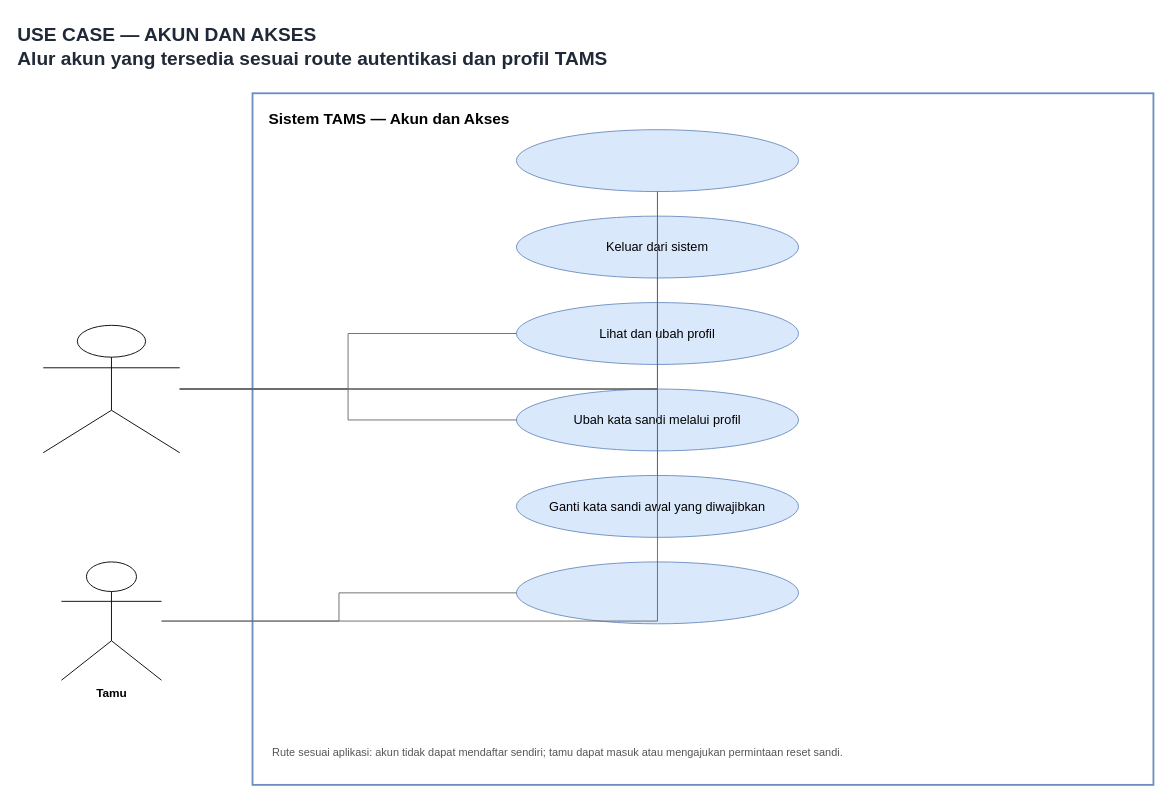
This 1169x801 diagram has some shape labels left out. Here are the shapes that lost their labels. From the top down, the box of each, then its label:
(516, 129, 799, 192): Masuk ke sistem
(42, 324, 180, 453): Pengguna TAMS (Admin, Pengelola, Staff)
(516, 561, 799, 624): Ajukan permintaan reset kata sandi
